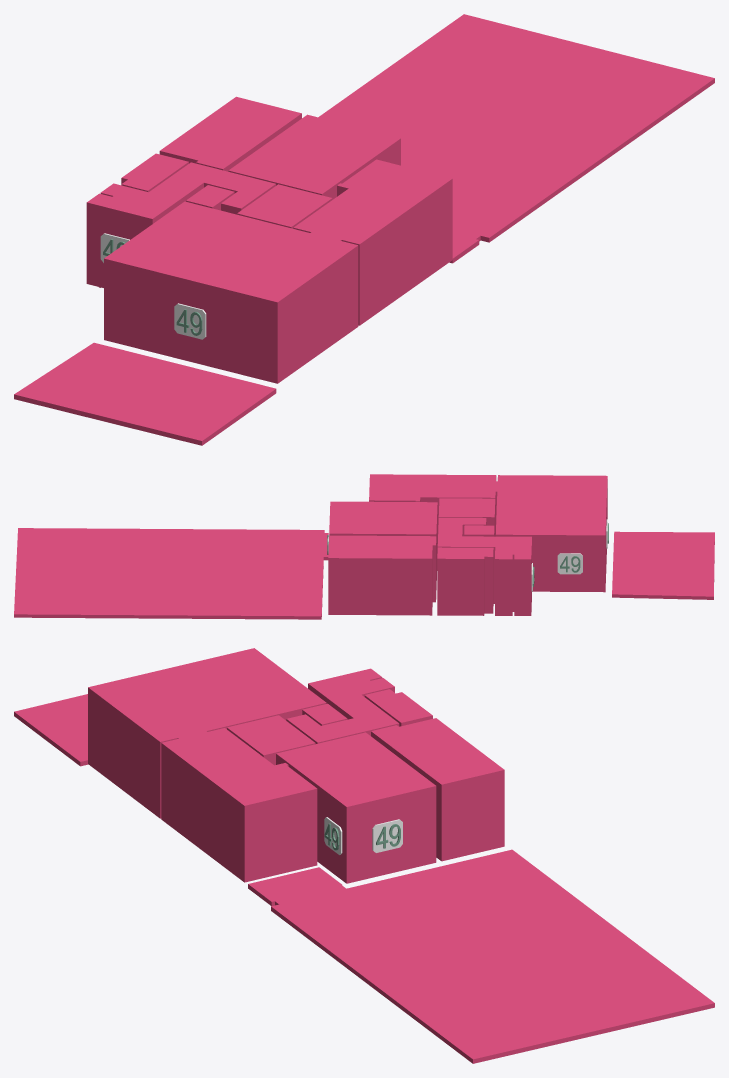
3 views of the same model, one above another, from view 1: azimuth 30°, elevation 25°; view 2: azimuth 150°, elevation 25°; view 3: azimuth 270°, elevation 25° (orthographic). The views are drawn at different scales.
Visible parts, largest first — view 1: g_8, g_1, g_9, g_0, g_6, g_4, g_7, g_2, g_5, g_18, g_3; view 2: g_8, g_1, g_7, g_9, g_4, g_5, g_6, g_0, g_2, g_12, g_3; view 3: g_8, g_1, g_0, g_6, g_7, g_4, g_9, g_2, g_5, g_15.
Boxes of the visible parts, box(x1,y1,x2,y2) form: g_8: box(318, 14, 714, 263); g_1: box(104, 201, 358, 383); g_9: box(14, 342, 276, 445); g_0: box(293, 159, 452, 325); g_6: box(228, 114, 400, 199); g_4: box(86, 162, 275, 287); g_7: box(159, 96, 301, 171); g_2: box(237, 184, 332, 228); g_5: box(121, 153, 188, 192); g_18: box(174, 303, 206, 339); g_3: box(186, 185, 234, 210); g_8: box(14, 528, 328, 619); g_1: box(495, 475, 607, 592); g_7: box(328, 535, 436, 615); g_9: box(612, 531, 714, 599); g_4: box(437, 517, 531, 615); g_5: box(437, 547, 493, 615); g_6: box(329, 501, 437, 589); g_0: box(369, 474, 496, 543); g_2: box(438, 498, 495, 536); g_12: box(557, 553, 582, 574); g_3: box(464, 525, 494, 536); g_8: box(248, 849, 714, 1063); g_1: box(88, 648, 326, 818); g_0: box(161, 728, 317, 882); g_6: box(276, 732, 436, 883); g_7: box(371, 718, 504, 861); g_4: box(286, 668, 399, 743); g_9: box(14, 694, 88, 766); g_2: box(227, 715, 315, 765); g_5: box(364, 689, 432, 726); g_15: box(372, 819, 402, 852).
Size of the model in its own units: 28.11 by 2.74 by 21.32.
